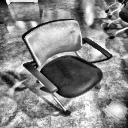chair_success: (18, 17, 116, 117)
